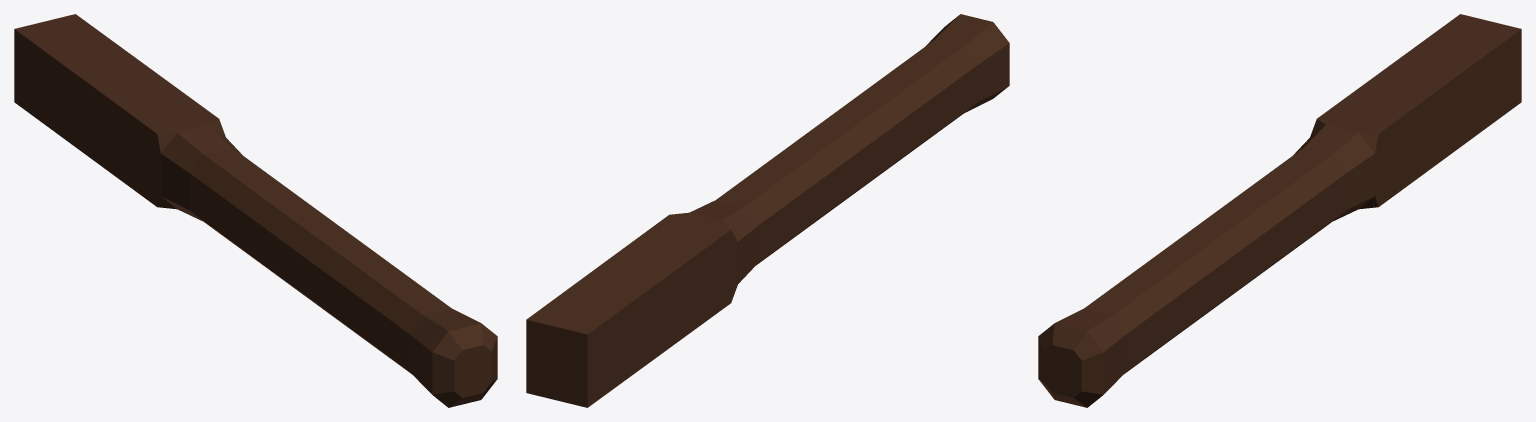
The model's file is CapstanArm.fbx.
3 views of the same model, side by side, from view 1: azimuth 30°, elevation 25°; view 2: azimuth 150°, elevation 25°; view 3: azimuth 330°, elevation 25° (orthographic).
Visible parts, largest first — view 1: CapstanArm; view 2: CapstanArm; view 3: CapstanArm.
Part boxes in pixels (x1,y1,x2,y2): CapstanArm: (14,14,497,407); CapstanArm: (526,14,1009,407); CapstanArm: (1038,14,1521,407).
Size of the model in its own units: 10.53 by 11.82 by 119.
